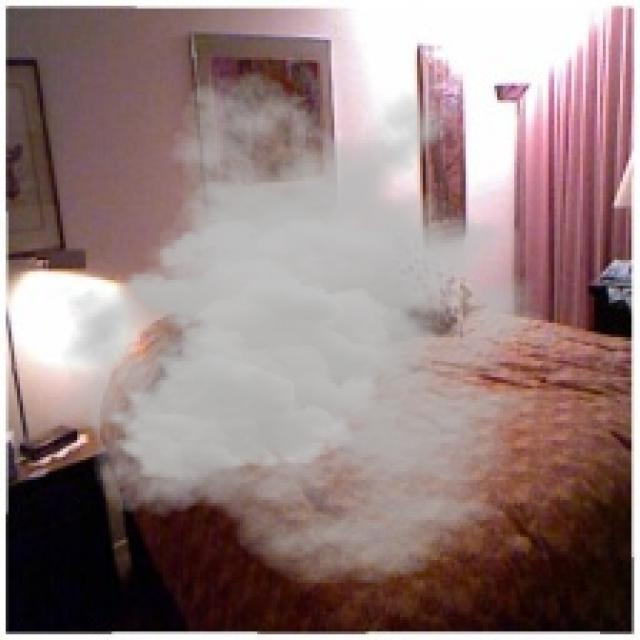smoke: (46, 69, 600, 586)
